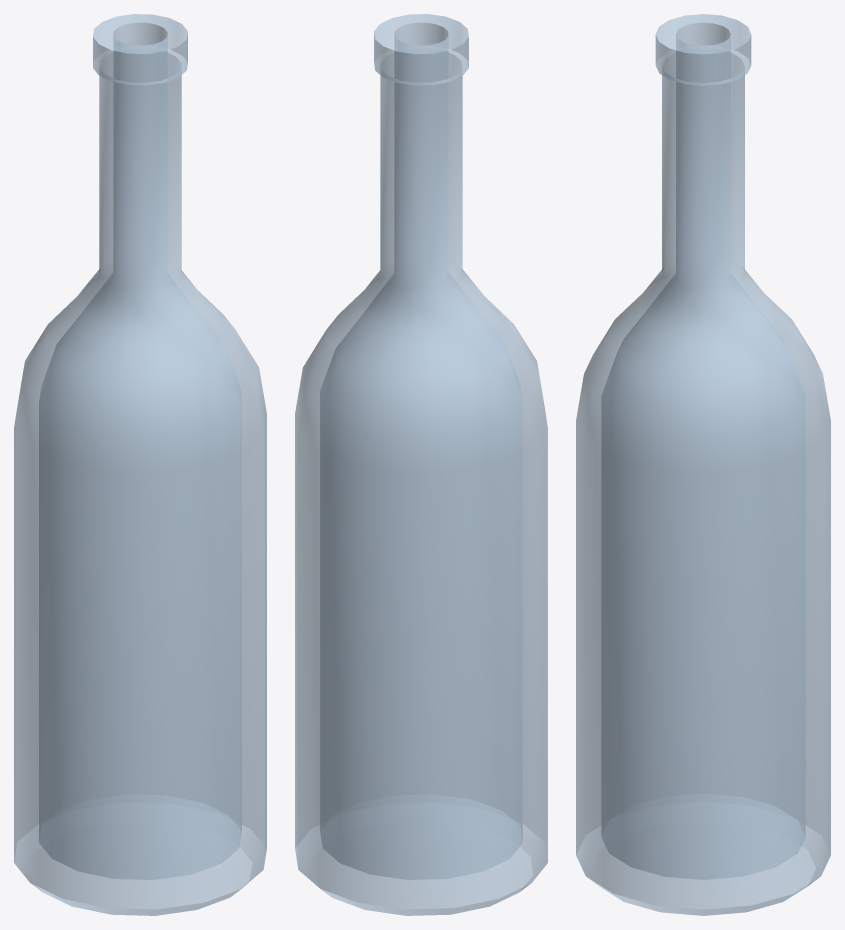
File: Bottle_A.FBX
3 renders of one model, left to right at view 1: azimuth 30°, elevation 25°; view 2: azimuth 150°, elevation 25°; view 3: azimuth 270°, elevation 25°, orthographic.
Visible parts, largest first — view 1: Bottle_A; view 2: Bottle_A; view 3: Bottle_A.
Part boxes in pixels (x1=…): Bottle_A: x1=14, y1=14, x2=266, y2=915; Bottle_A: x1=295, y1=14, x2=547, y2=915; Bottle_A: x1=576, y1=14, x2=830, y2=915.
Bounding box in the file's own units: 34.28 × 124 × 34.28.
